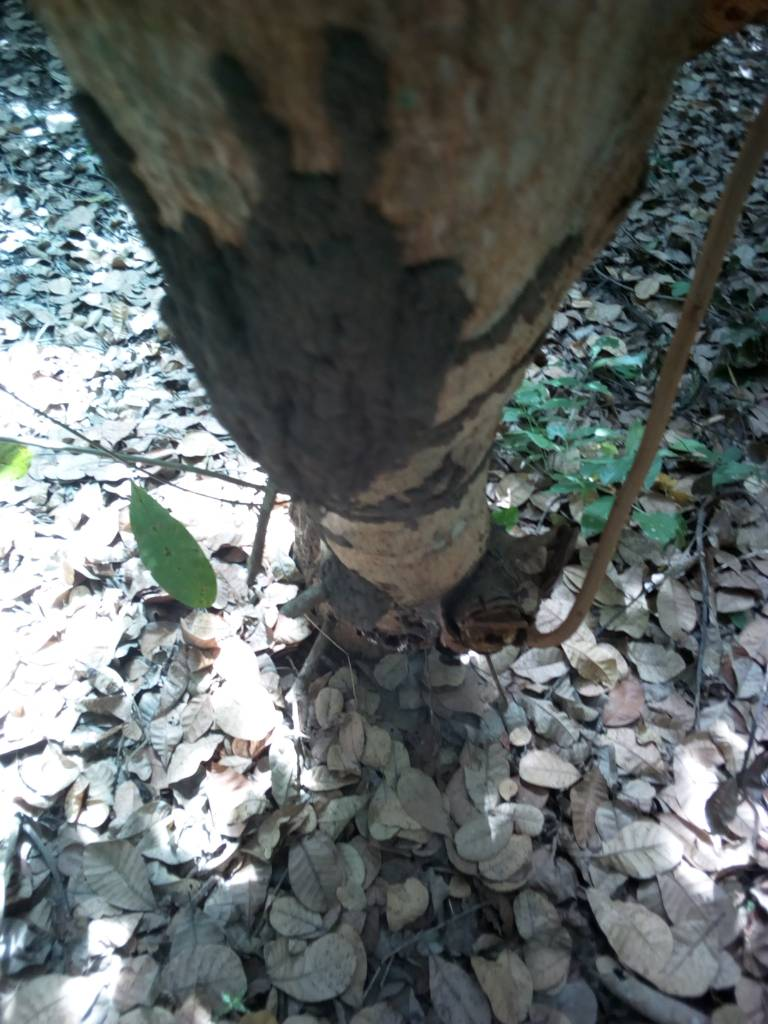Termites: (240, 69, 498, 518), (168, 250, 224, 388)
